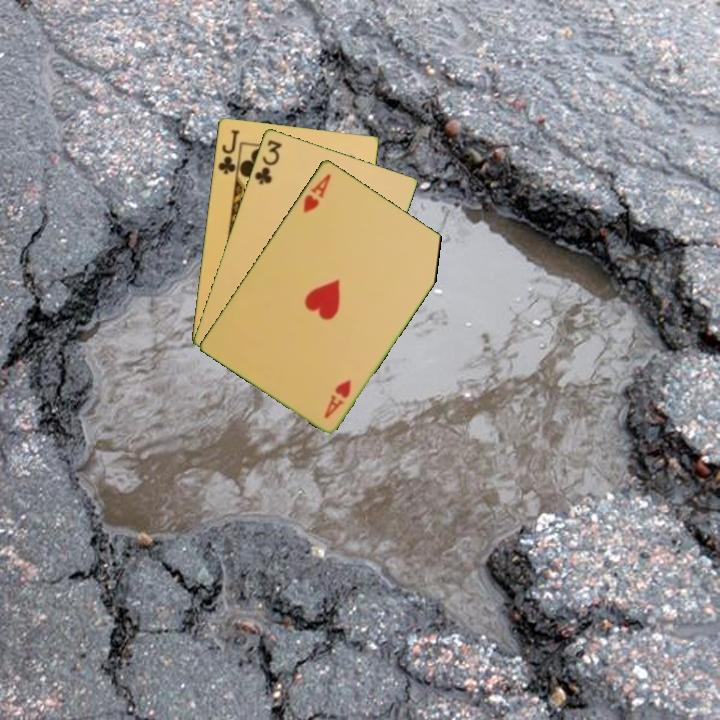3c: (251, 136, 285, 187)
Ah: (320, 375, 354, 421), (300, 170, 334, 215)
Jc: (214, 126, 242, 177)
